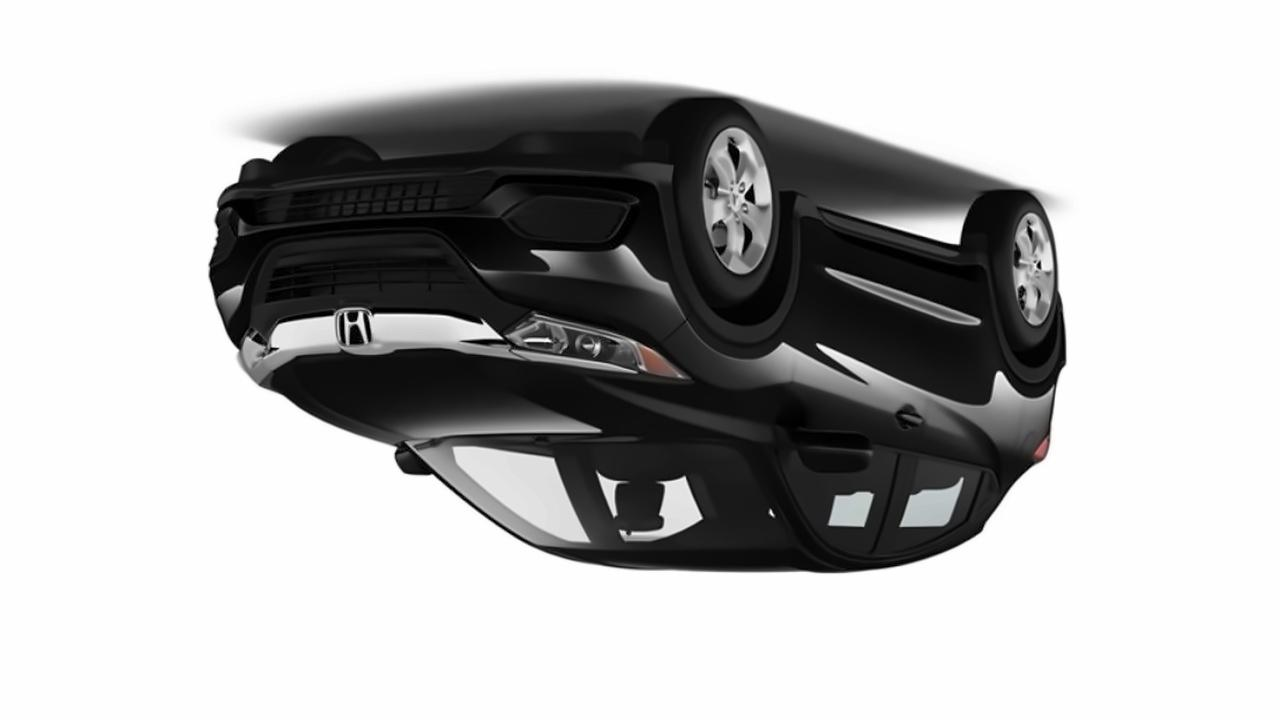Car hood: (255, 348, 790, 453)
Driver-s door - -F-R-: (756, 193, 939, 574)
Fender - -F-R-: (646, 258, 812, 497)
Fender - -R-R-: (982, 309, 1063, 527)
Front bumper: (201, 148, 711, 346)
Headlight - -L-: (238, 321, 282, 381)
Headlight - -R-: (503, 311, 691, 382)
Passenger-s door - -R-R-: (855, 203, 1011, 582)
Rear light - -R-: (771, 183, 1000, 308)
Side mirror - -R-: (775, 428, 874, 474)
